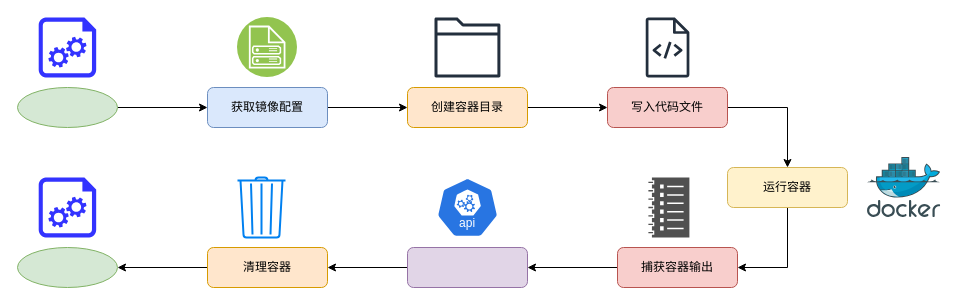
This 958x305 diagram has some shape labels left out. Here are the shapes that lost their labels. From the top down, the centre of each, then its label:
point (67, 107): 请求开始
point (67, 267): 请求结束
point (467, 267): 返回结果
